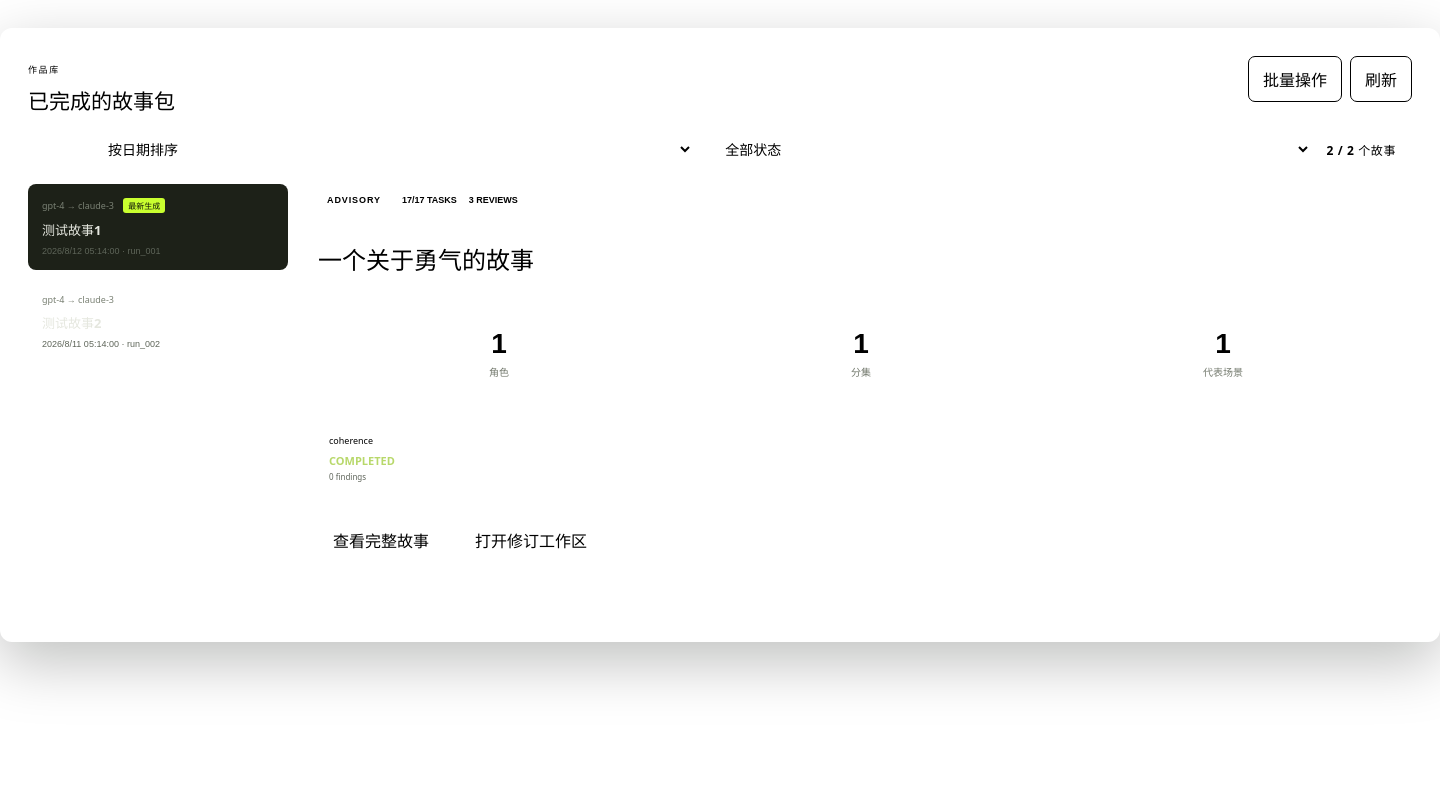
Test case: ArtifactBrowser › 阅读模式 › 应该通过双击打开阅读器
Double-click the text "测试故事1" at [72, 230], box [42,221,101,239]
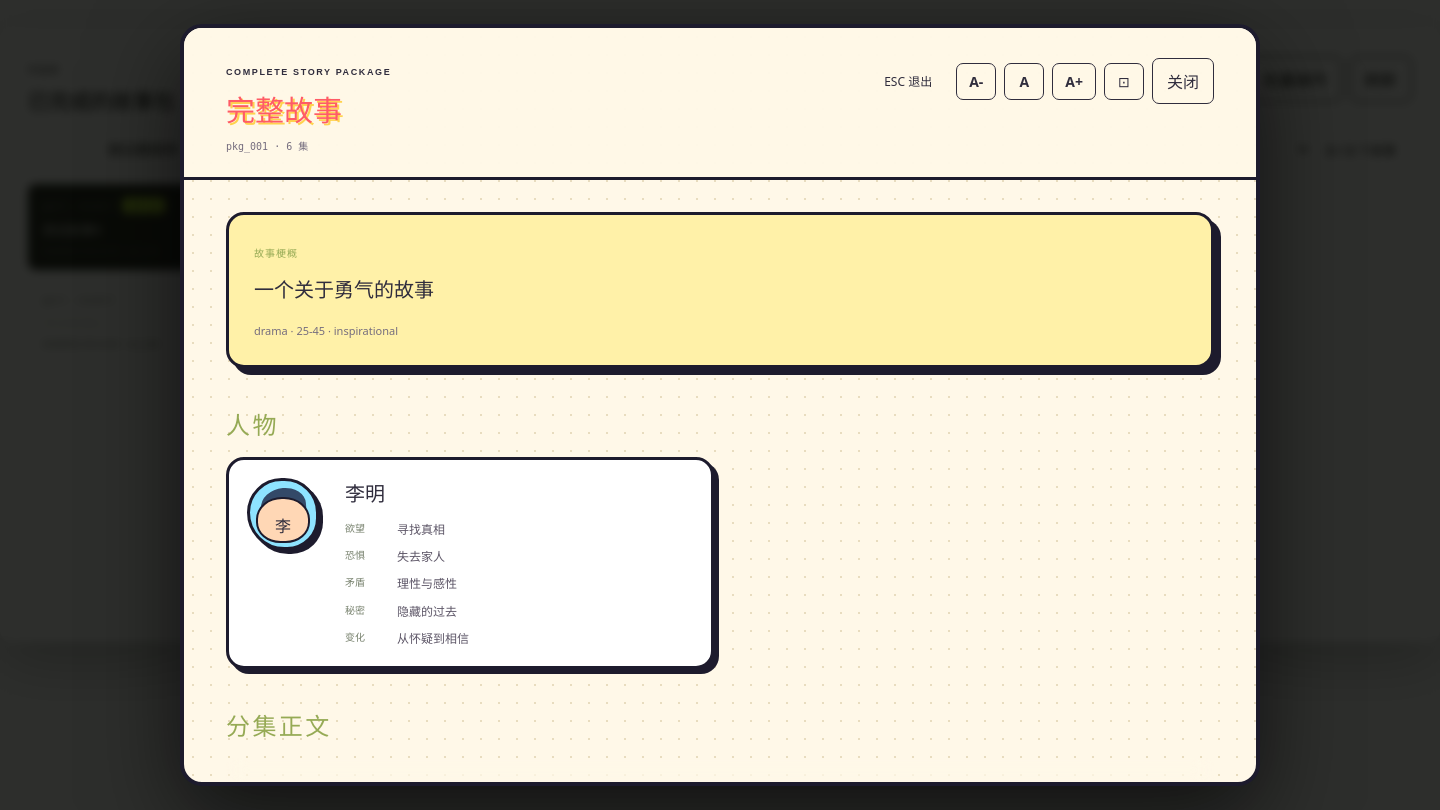
Check: the heading "完整故事" is shown, box [226,90,342,129]
